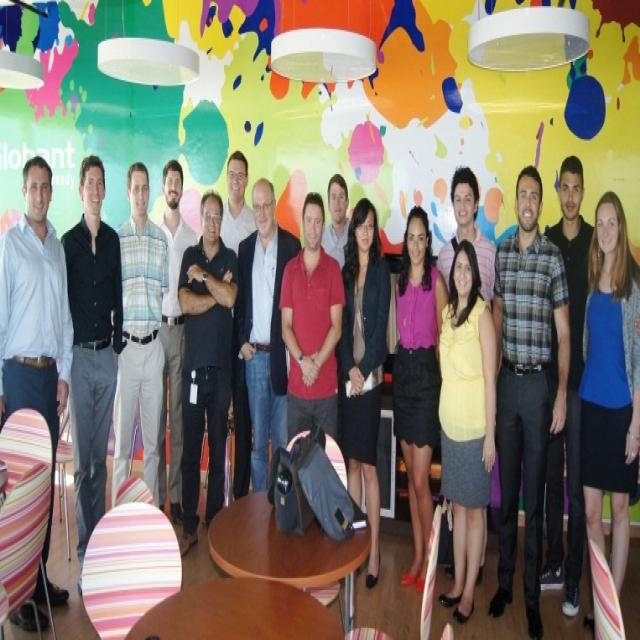body: (486, 157, 574, 638), (0, 148, 76, 632), (59, 151, 125, 601), (575, 177, 639, 639), (385, 200, 454, 598), (538, 150, 596, 620), (172, 184, 241, 563), (330, 191, 393, 593), (437, 238, 499, 626), (236, 177, 302, 498), (109, 159, 168, 511), (277, 189, 344, 456), (156, 156, 200, 526), (434, 164, 498, 314), (214, 150, 257, 259), (320, 172, 354, 266)
